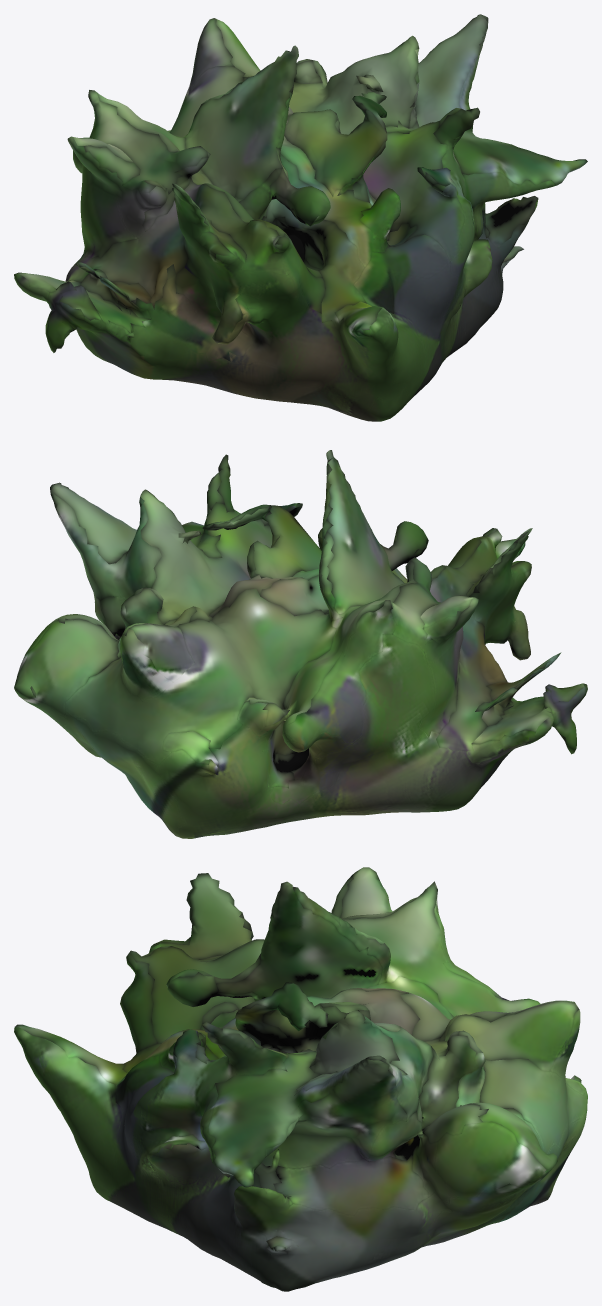
Rendered from 018bbd2d-eec4-74fe-8174-26db8d817cdb.glb.
3 renders of one model, top to bottom at view 1: azimuth 30°, elevation 25°; view 2: azimuth 150°, elevation 25°; view 3: azimuth 270°, elevation 25°, orthographic. The views are drawn at different scales.
Parts seen in each view (by area): view 1: model.obj; view 2: model.obj; view 3: model.obj.
Part boxes in pixels (left/top/right/bottom): model.obj: left=14, top=14, right=587, bottom=421; model.obj: left=14, top=450, right=587, bottom=838; model.obj: left=14, top=867, right=587, bottom=1291.
Bounding box in the file's own units: 1.04 × 0.6007 × 0.9733.
1 material, 1 textured.
